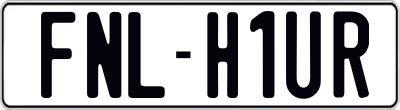1: (250, 8, 277, 95)
F: (39, 12, 77, 98)
H: (206, 9, 243, 99)
L: (126, 12, 167, 104)
N: (85, 11, 120, 100)
R: (332, 9, 368, 102)
U: (283, 11, 323, 103)
